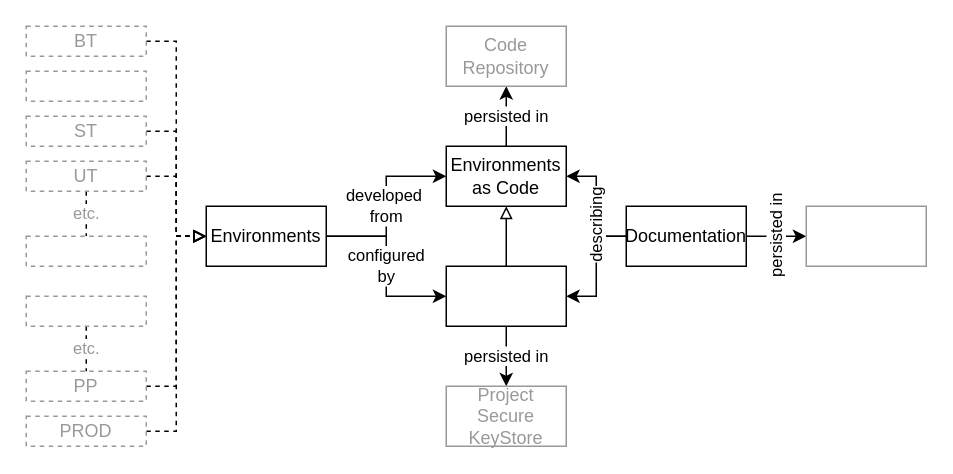
This 953x474 diagram has some shape labels left out. Here are the shapes that lost their labels. From the top down, the centre of each, then its label:
At (85,85): "DT".
At (85,250): "TR".
At (865,235): "Project ALM Wiki".
At (85,310): "IT".
At (505,295): "Environment Configuration Settings".
